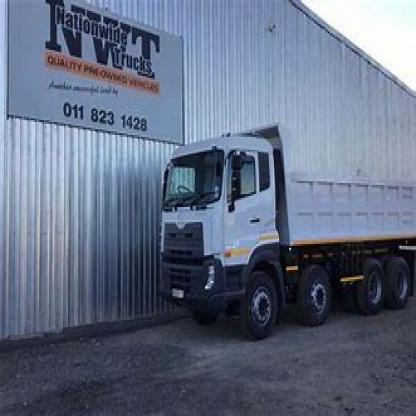dump_truck: (137, 115, 415, 342)
